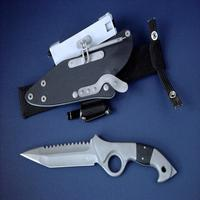knife: (14, 134, 185, 187)
